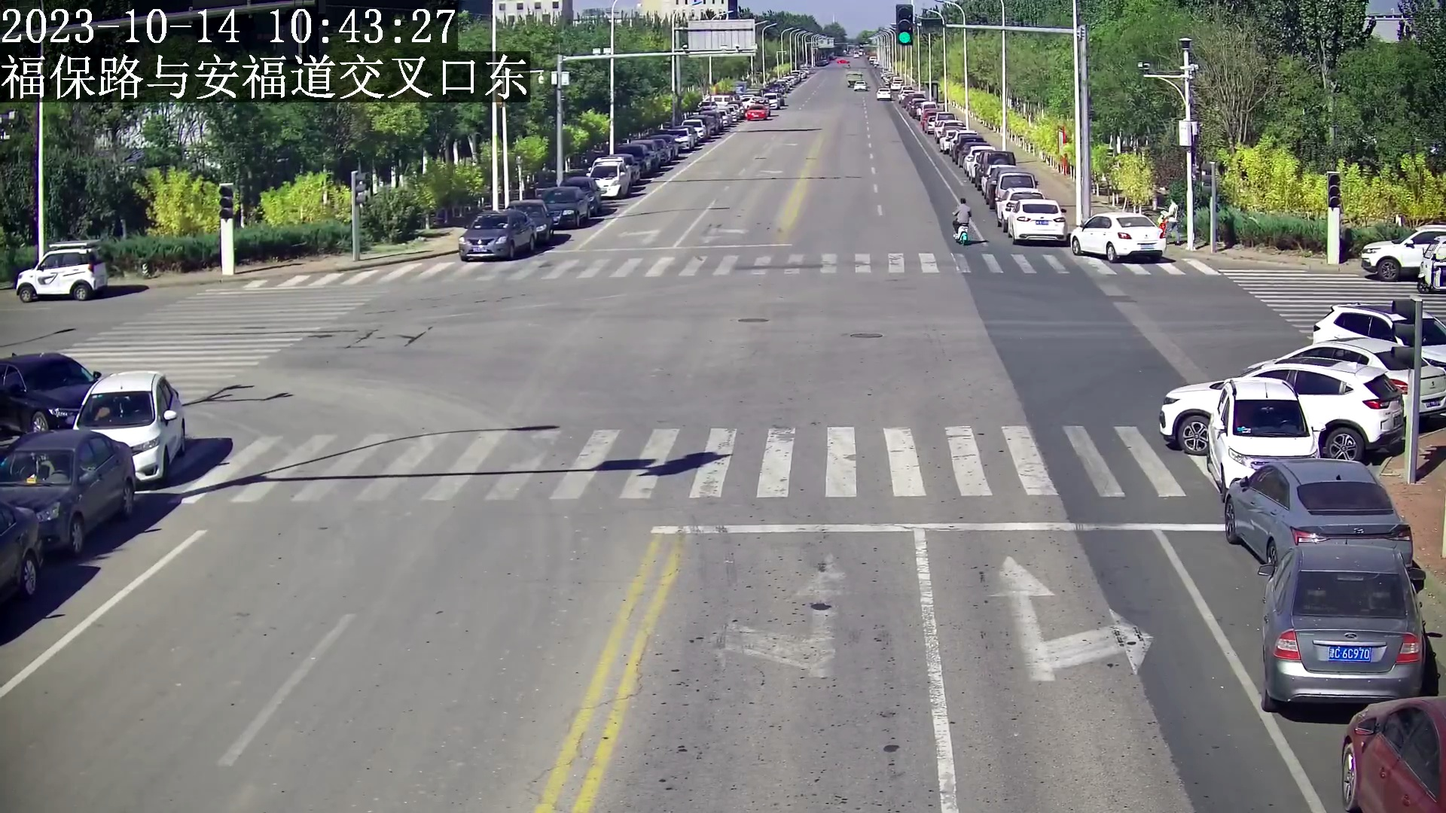person: (1162, 196, 1181, 248), (954, 196, 969, 229)
vehicle: (1156, 350, 1403, 461), (1258, 544, 1425, 700), (1220, 457, 1414, 563), (0, 431, 133, 549), (1341, 693, 1445, 813), (77, 369, 185, 480), (1210, 374, 1322, 480), (0, 352, 99, 430), (1069, 208, 1166, 262), (17, 239, 105, 298), (1357, 219, 1446, 276), (454, 209, 534, 258), (1008, 198, 1067, 242), (1420, 236, 1445, 292), (950, 222, 969, 245)
